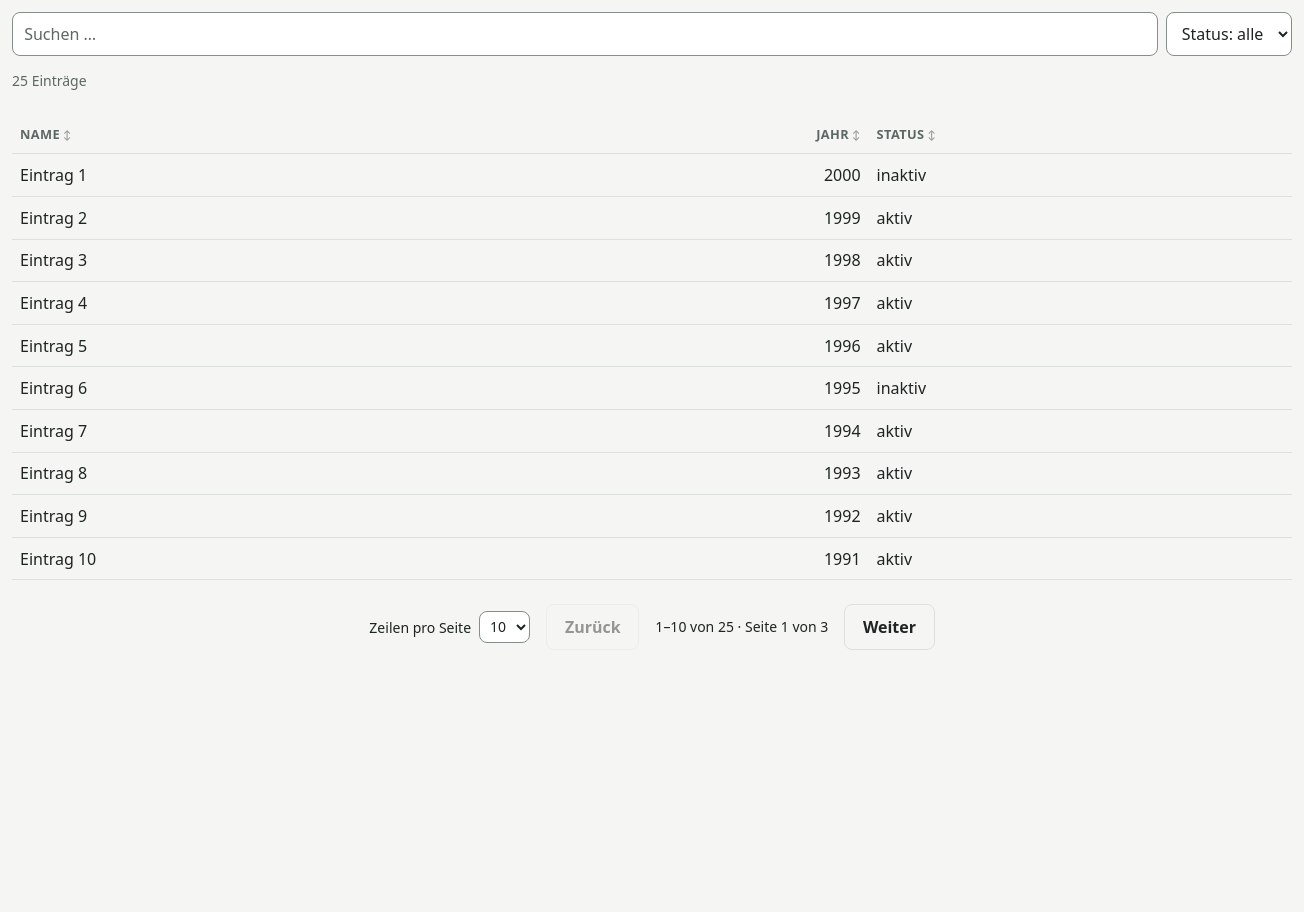
Test case: DataTable › filtert und durchsucht
Select "inaktiv" in the dropdown named "Filter Status" at x=1229, y=34, box [1166,12,1292,56]
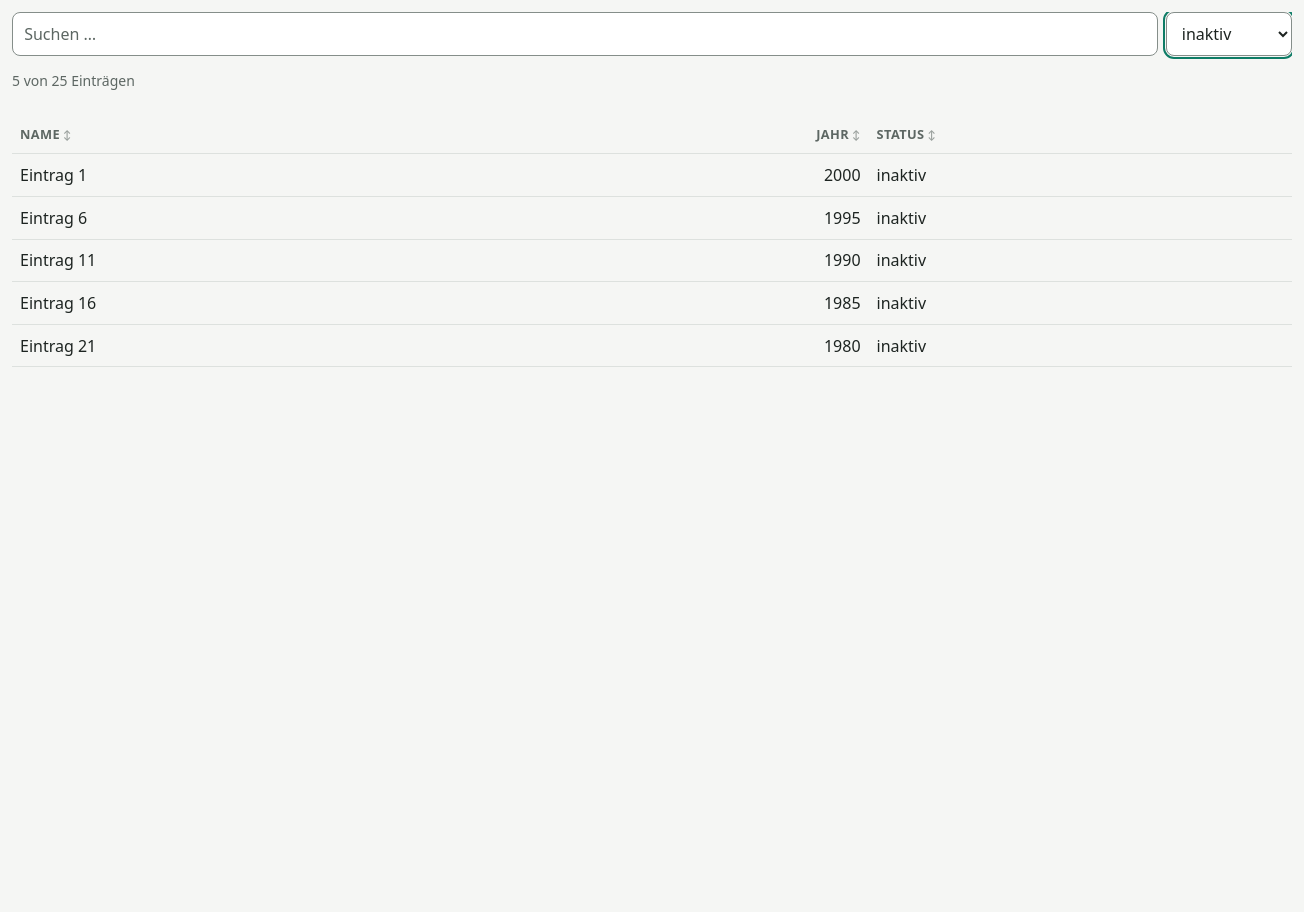
Check: the text "5 von 25 Einträgen" is shown, box [12,71,135,90]
Type "eintrag 21" into the search field named "Test durchsuchen" at x=585, y=34, box [12,12,1158,56]
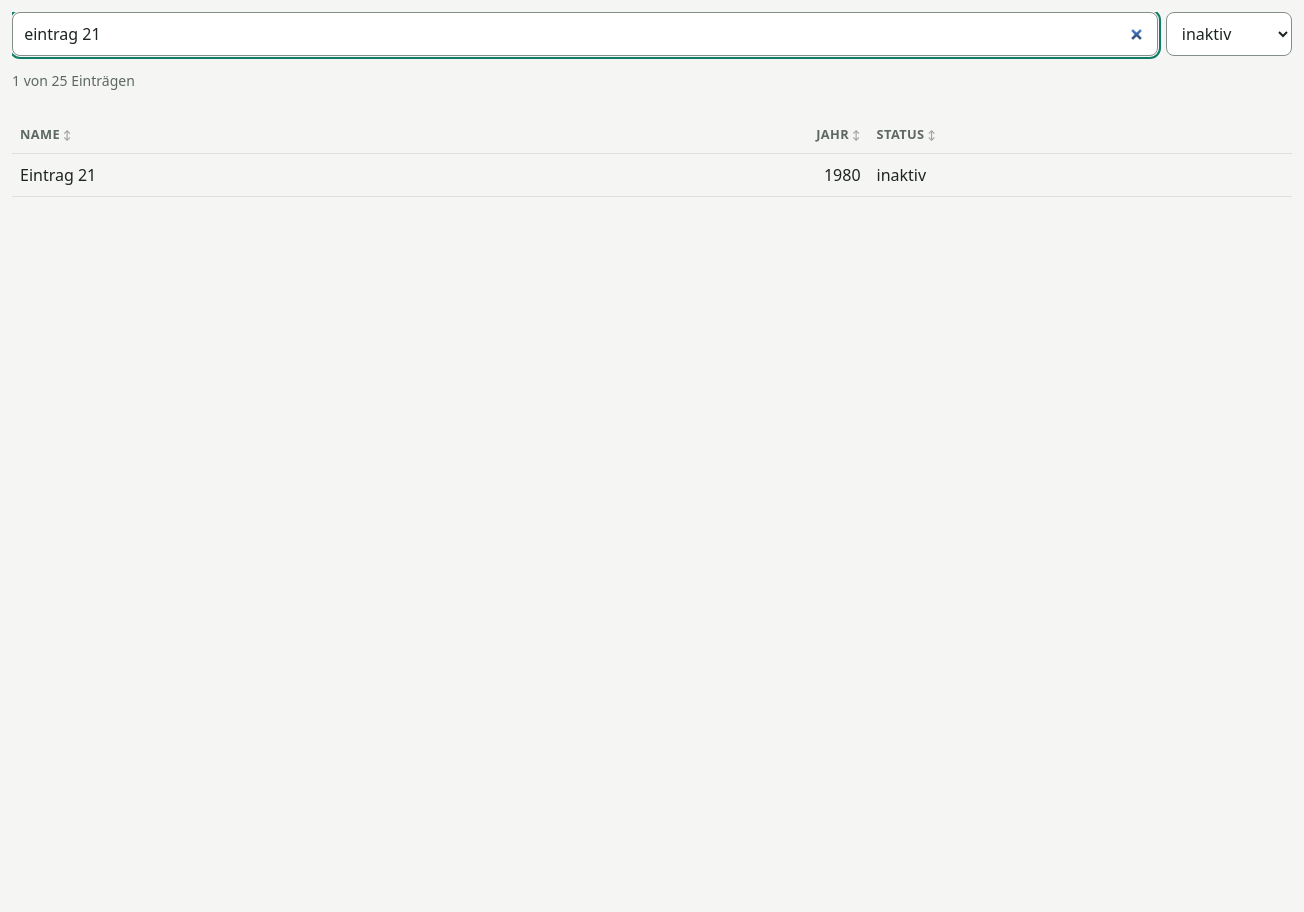
Replace the text in the search field named "Test durchsuchen" with "gibtsnicht" at x=585, y=34, box [12,12,1158,56]
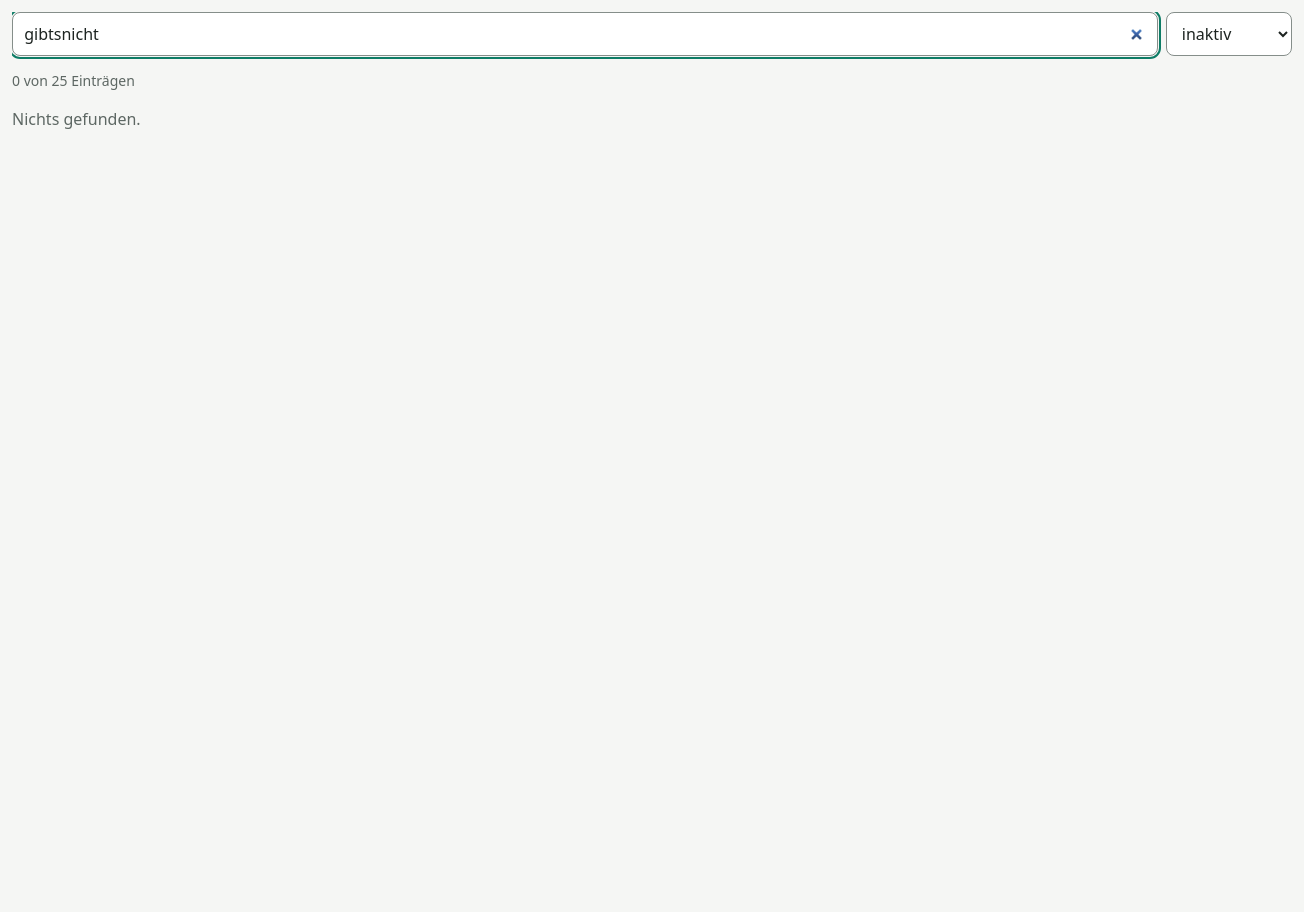
Check: the text "Nichts gefunden." is shown, box [12,108,141,130]
